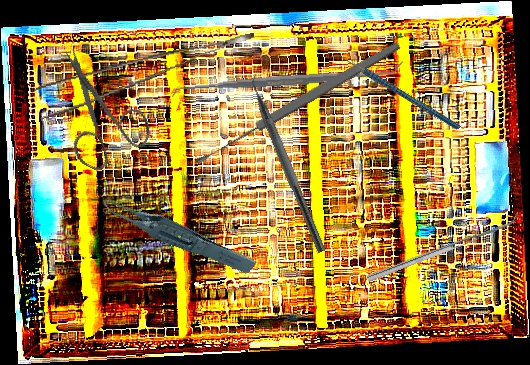Chopper: (325, 19, 461, 165), (240, 63, 339, 254)
Iris Scissors: (24, 46, 169, 185)
Spatula Surgical: (364, 211, 521, 282), (170, 58, 405, 102)
Surgical Spoon: (191, 38, 404, 169)
Tissue Forceps: (97, 161, 258, 302), (31, 32, 263, 120)
